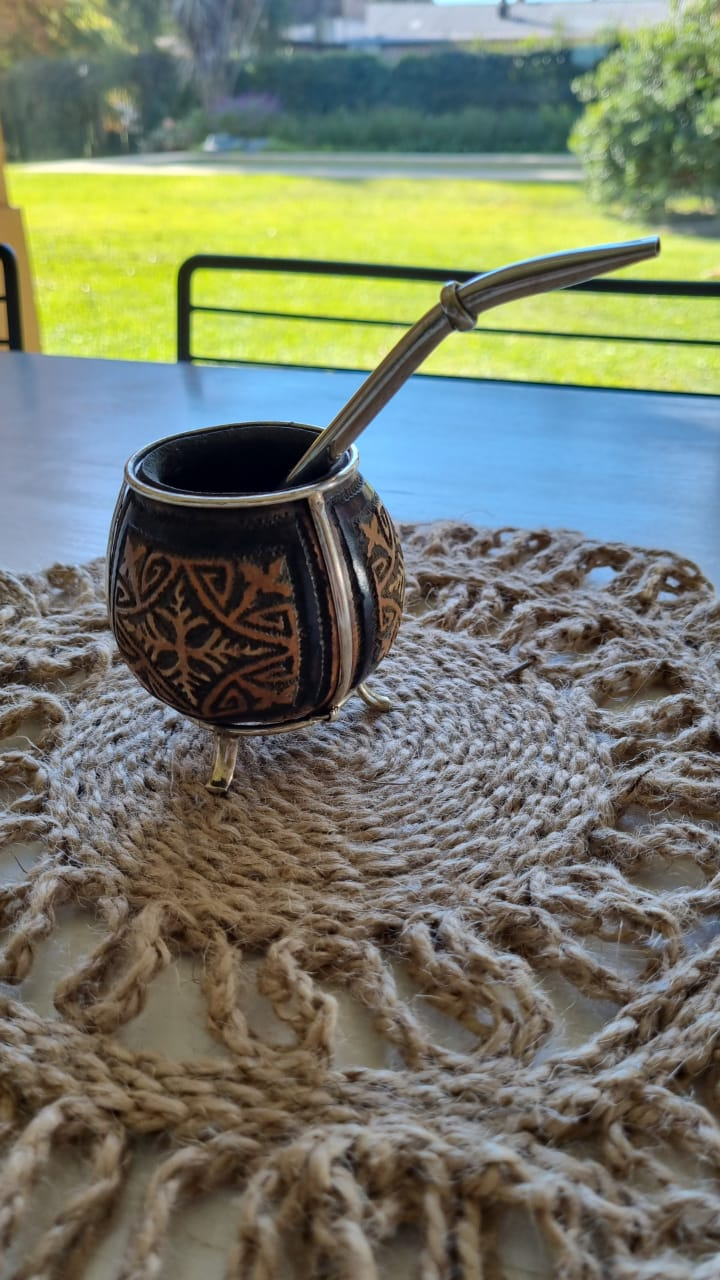mate: (106, 421, 413, 790)
